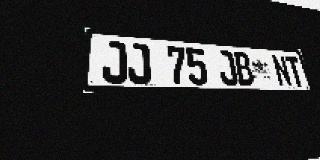5: (185, 47, 209, 85)
7: (165, 46, 189, 85)
B: (232, 51, 255, 86)
J: (102, 40, 127, 84), (127, 42, 151, 84), (216, 50, 239, 86)
N: (271, 55, 293, 87)
T: (284, 56, 306, 87)
